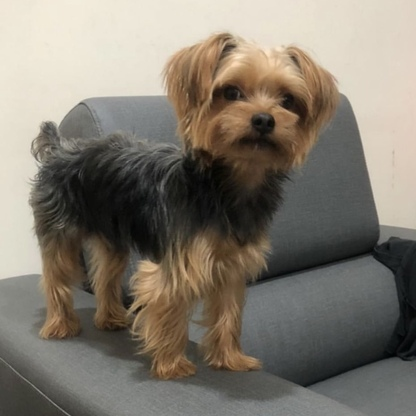yorkshire: (29, 31, 339, 373)
